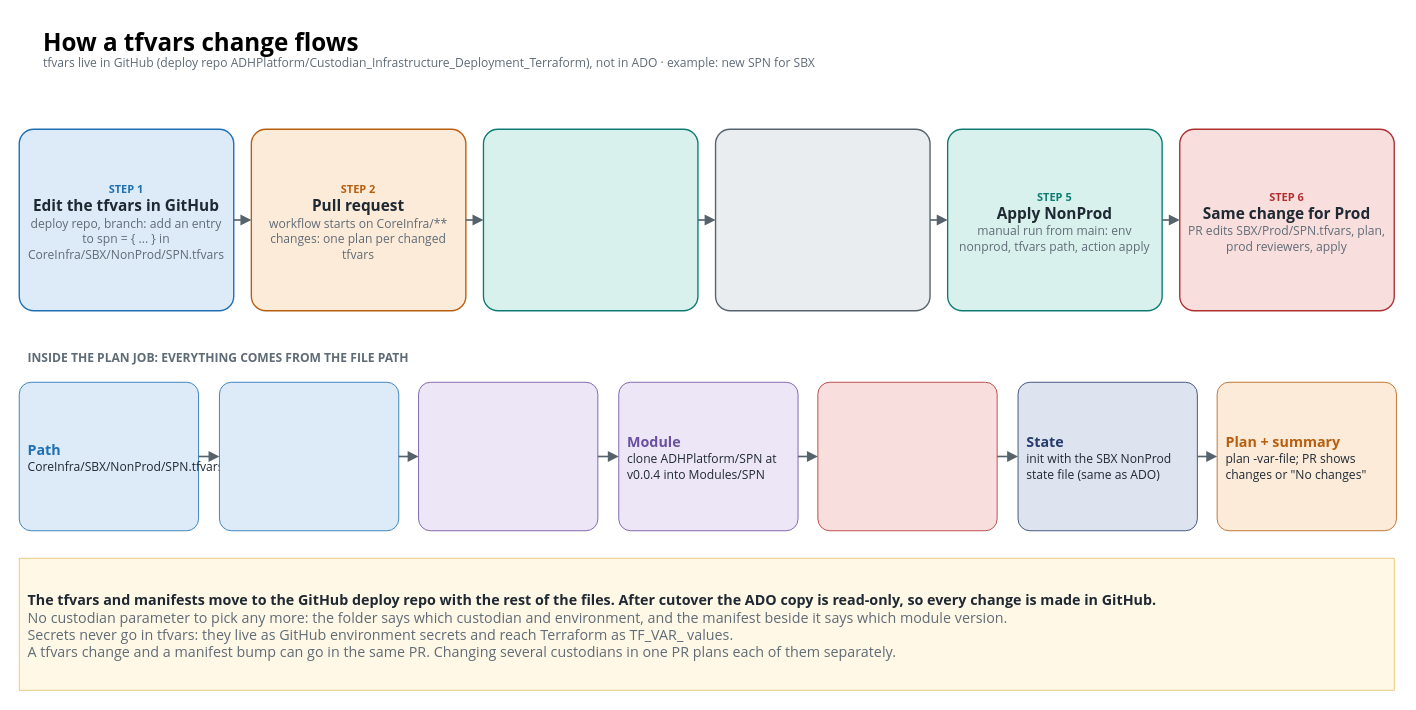
This 1416x710 diagram has some shape labels left out. Each missing label, with the box of its shape:
Sign in OIDC to the nonprod environment, no secret: (817, 381, 997, 531)
STEP 3 Plan on the Cencora runner, steps below; the result shows in the PR: (482, 128, 698, 311)
STEP 4 Review + merge the team reads the plan, e.g. "1 to add, 0 to change": (714, 128, 930, 311)
Version modules_manifest.csv next to it: SPN 0.0.4: (418, 381, 598, 531)
Who + where custodian SBX, environment nonprod: (218, 381, 399, 531)
